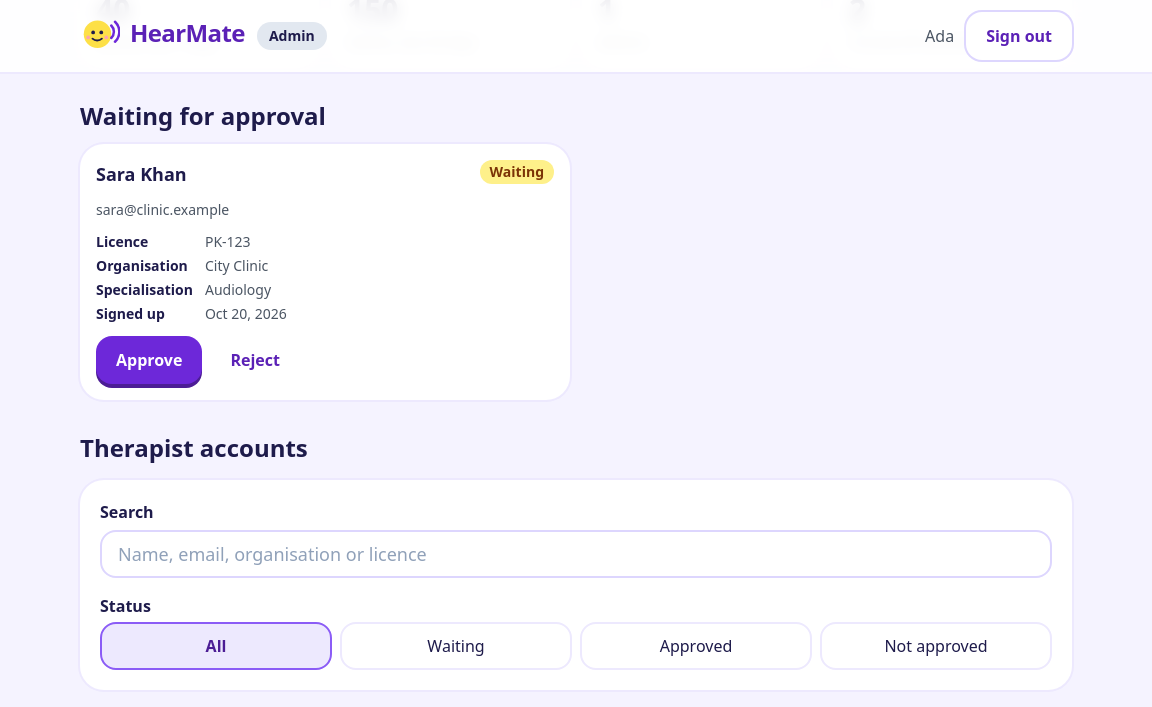
Admin dashboard › rejects only with a reason, after confirming
(page scrolled)
Click the button with aria-label "Reject Sara Khan" at coordinates (255, 360), box [210,336,300,384]
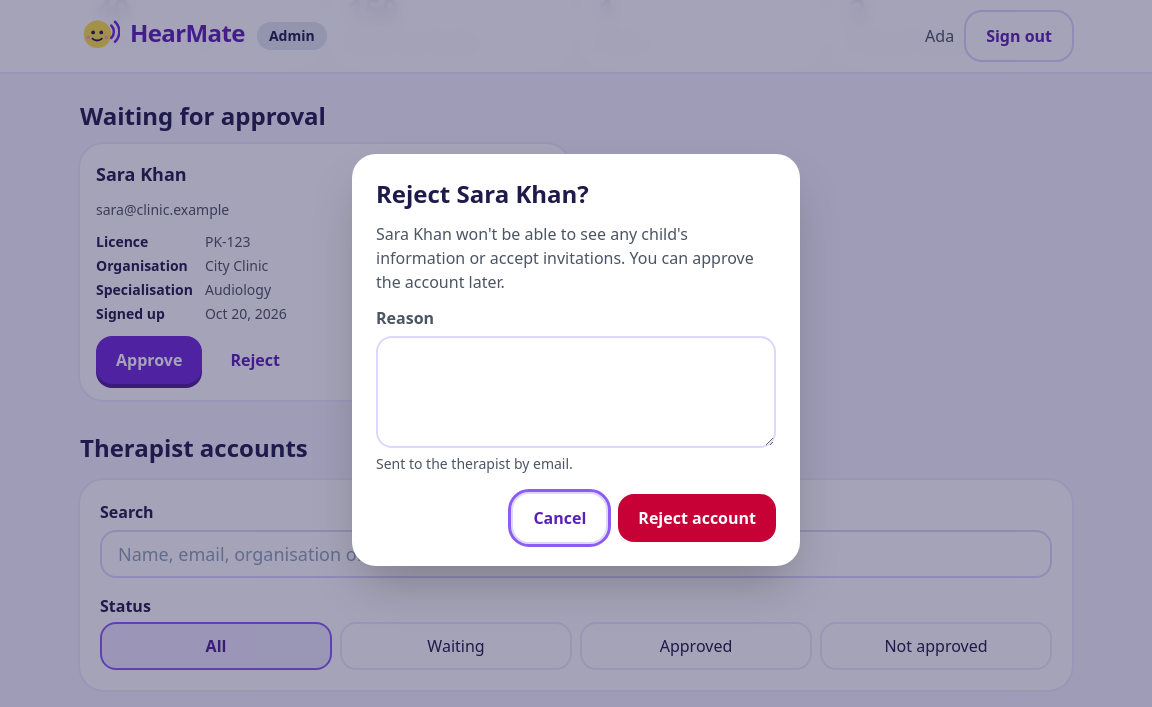
Click the button "Cancel" at coordinates (560, 518), box [513,494,606,542]
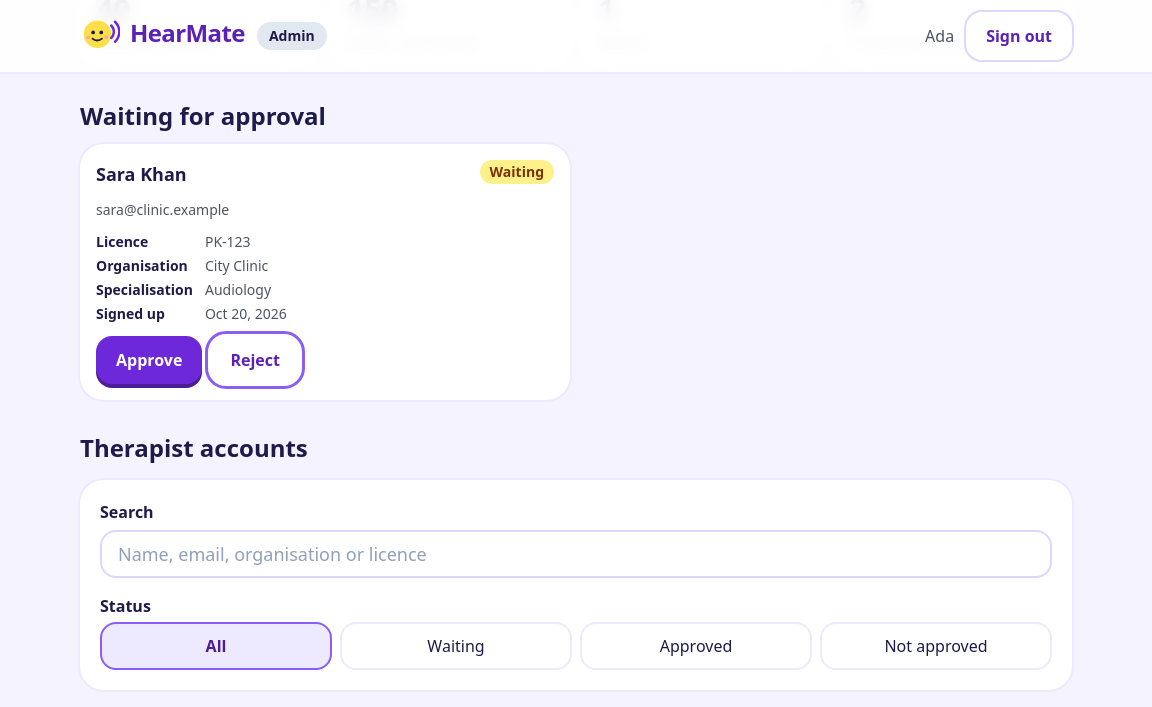
Expected: the dialog is gone
Click the button with aria-label "Reject Sara Khan" at coordinates (255, 360), box [210,336,300,384]
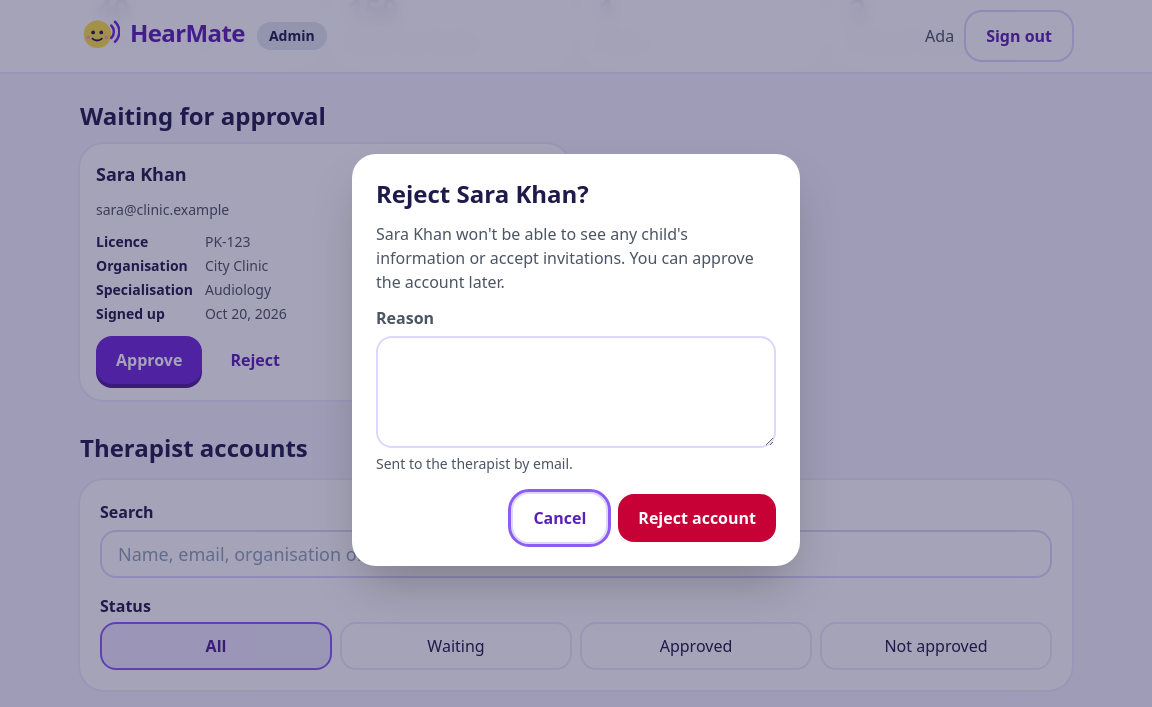
Click the button "Reject account" at coordinates (697, 518), box [618,494,776,542]
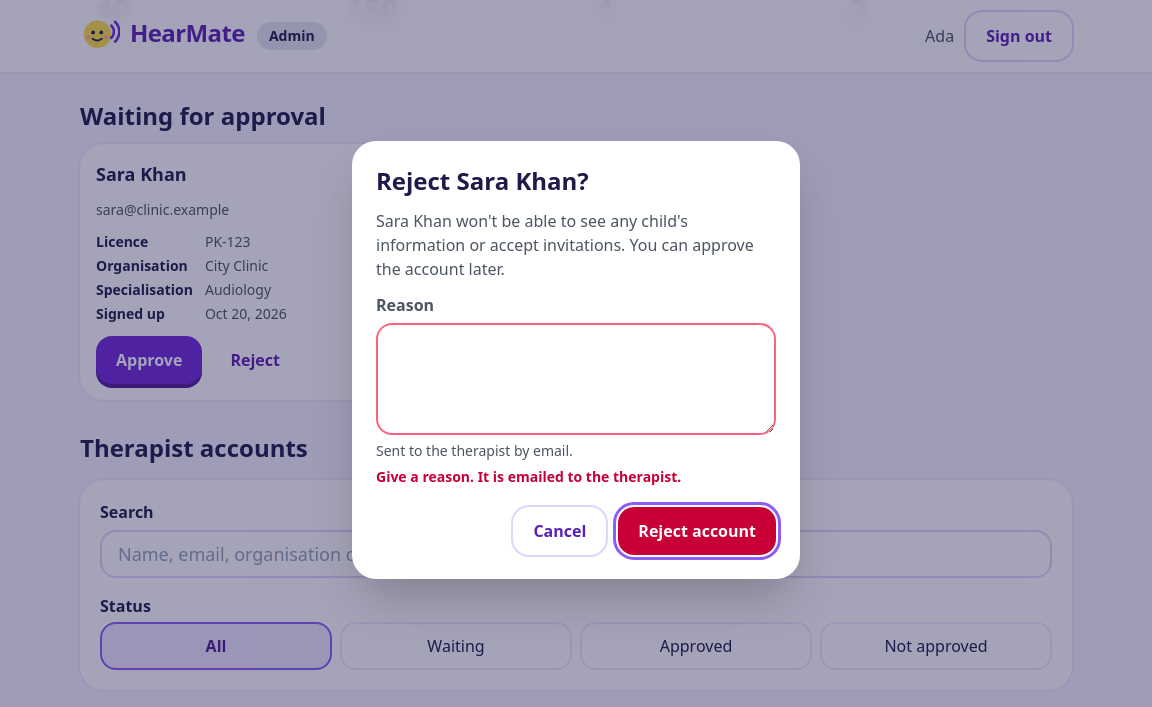
Expected: the text "Give a reason. It is emailed to the therapist." is shown, [376,467,681,486]
Type "  Please add your licence.  " into the text box labelled "Reason" at coordinates (576, 379), box [376,323,776,435]
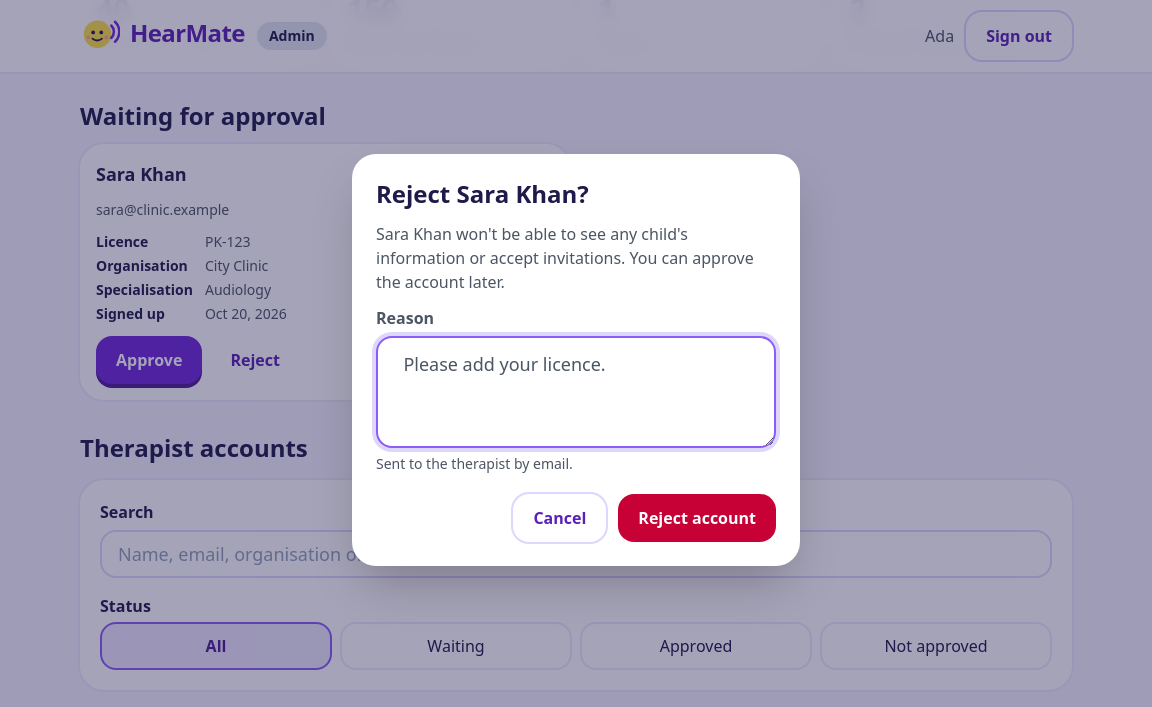
Click the button "Reject account" at coordinates (697, 518), box [618,494,776,542]
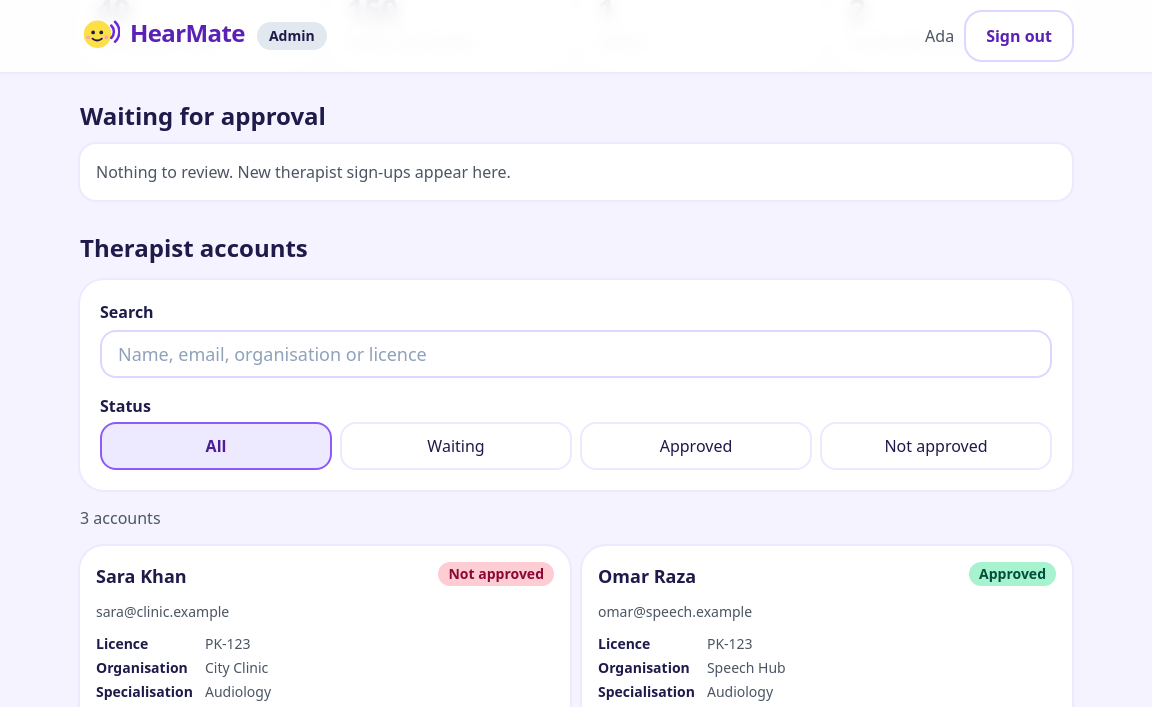
Expected: the text "Nothing to review. New therapist sign-ups appear here." is shown, [80,144,1072,200]
